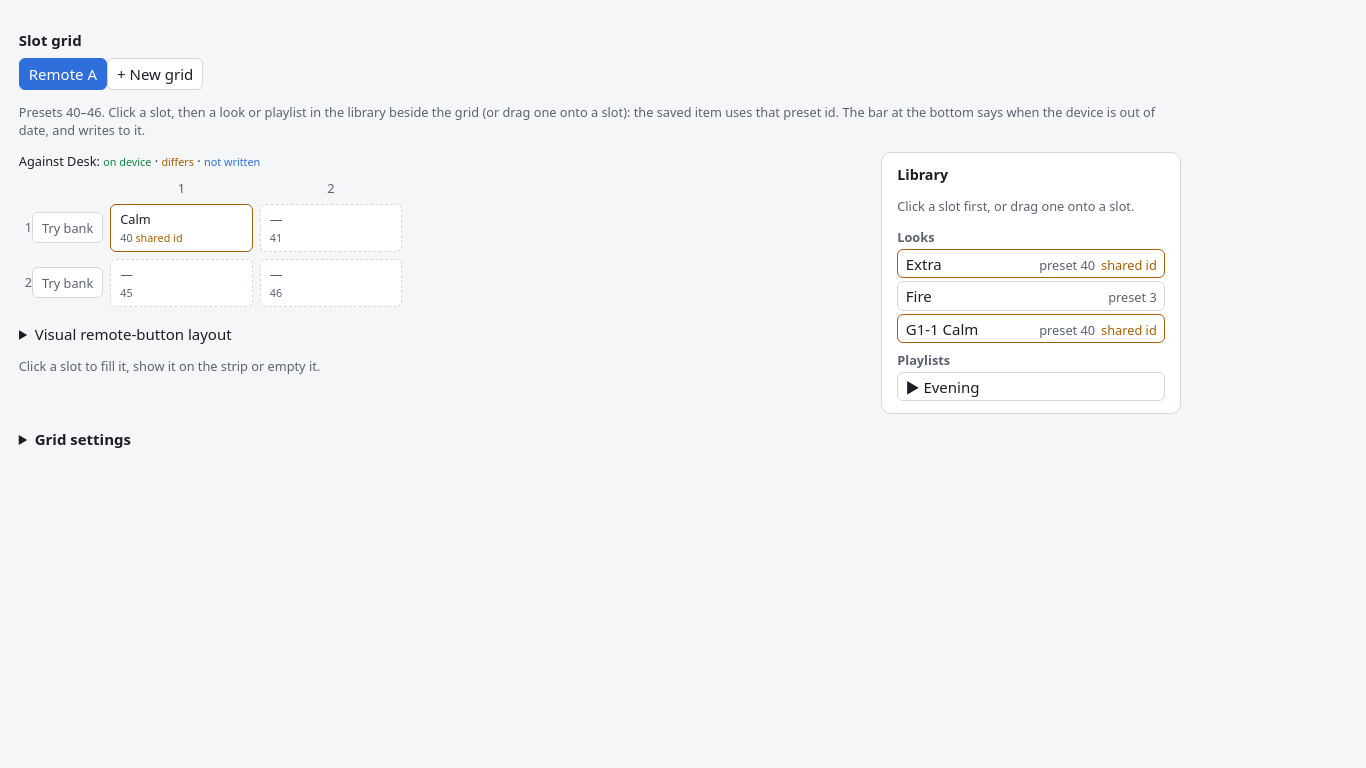
shared ids are visible on the cell and library, with direct fixes
Later steps or results of the test are not shown.
Click the button with aria-label "Slot 1·1, preset 40: G1-1 Calm (shared id)".
click(182, 228)  # box [110,204,253,252]
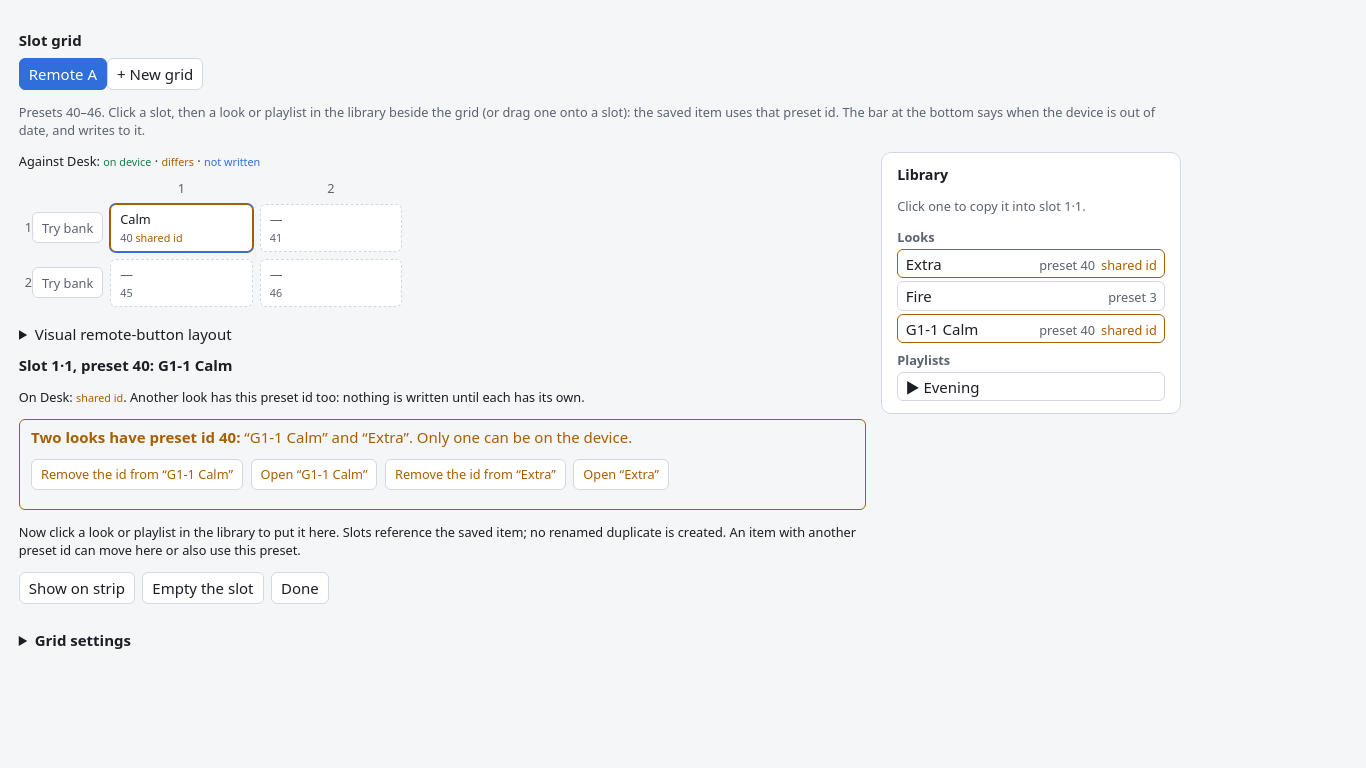
Expected: the element named "Shared preset id" shows "Only one can be on the device", [409,427,632,447]
